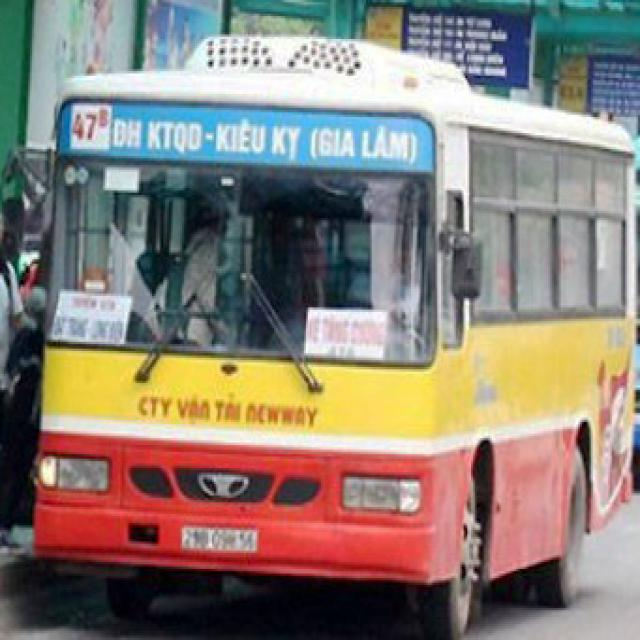Car: (26, 32, 638, 638), (631, 332, 638, 488)
